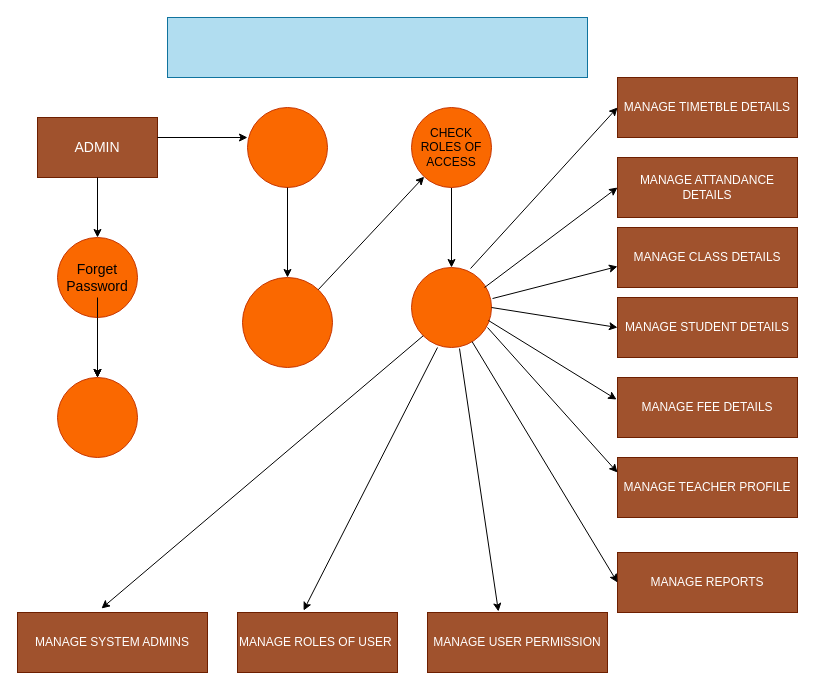
Some shapes in this 815 by 690 pixel diagram are drawn without their labels. The shapes that lost their labels are listed below. From the top down, each one's centre as x and y in pixels, then its label:
At (377,47): "STUDENT INFORMATION SYSYTEM".
At (287,147): "Log in to system".
At (287,322): "CHECK CREDENTIALS".
At (451,307): "MANGE MODULES".
At (97,417): "SEND EMAIL TO THE USER".
